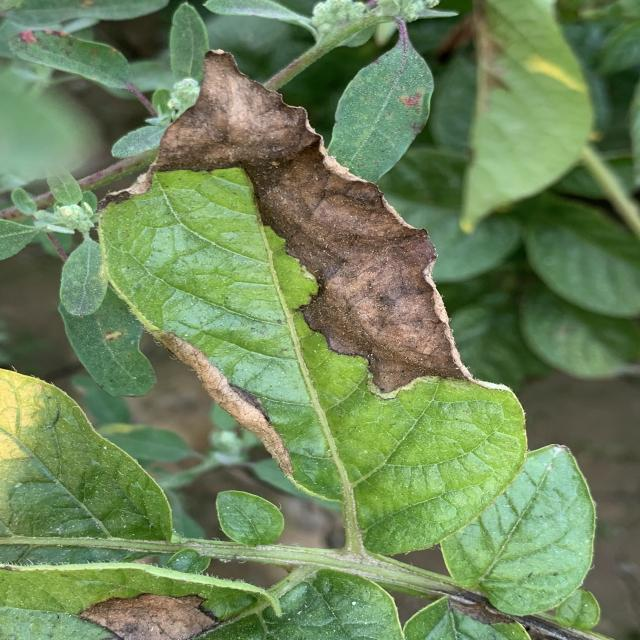lateblight: (150, 50, 473, 392), (150, 331, 293, 475), (80, 594, 217, 640)
